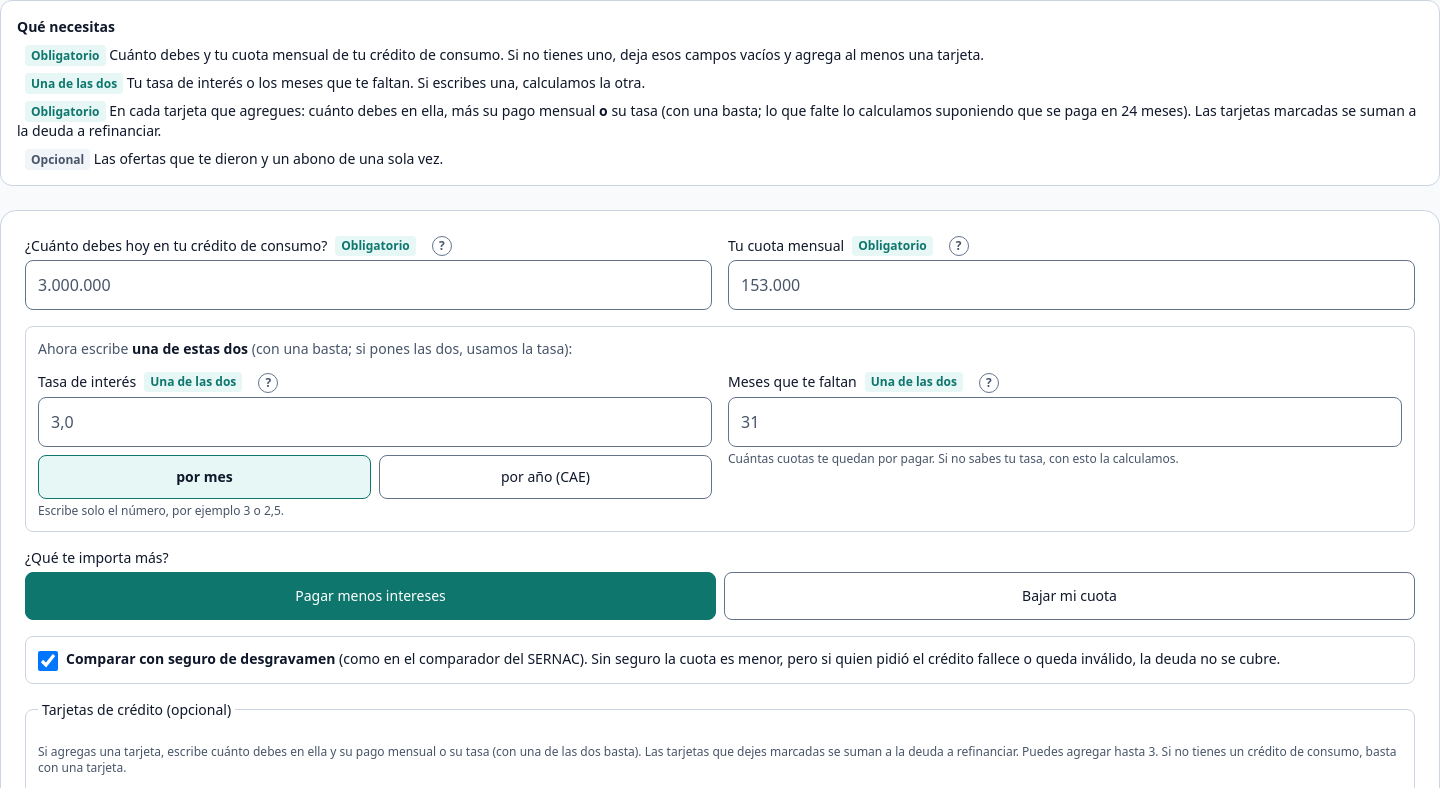
it: Ingreso de datos › permite dar la tasa por año y muestra su equivalente mensual
Click the radio button labelled "por año (CAE)" at (546, 476), box top-left (379, 454), bottom-right (712, 498)
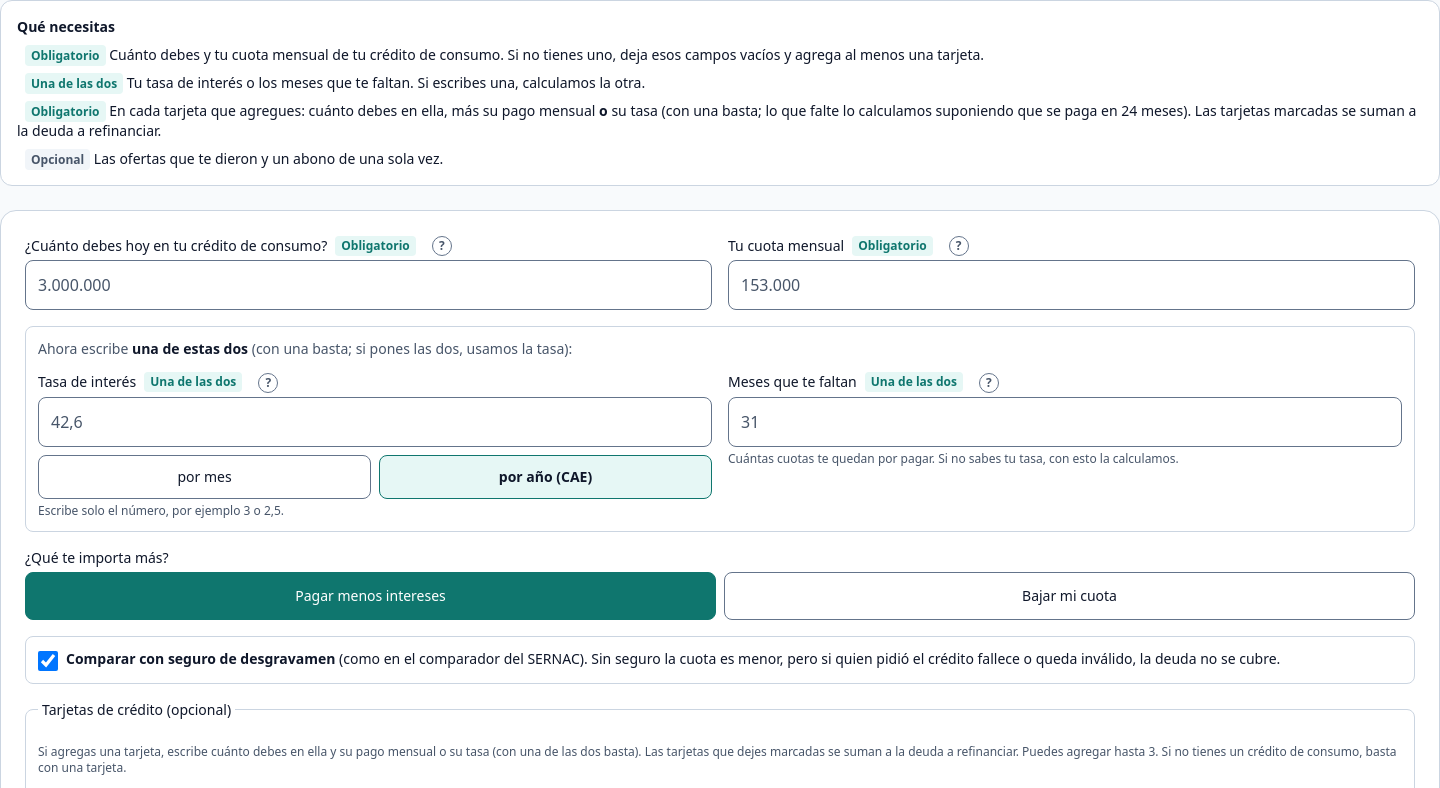
Type "26,8242" into the field labelled "Tasa de interés" at (375, 422), box top-left (38, 396), bottom-right (712, 446)
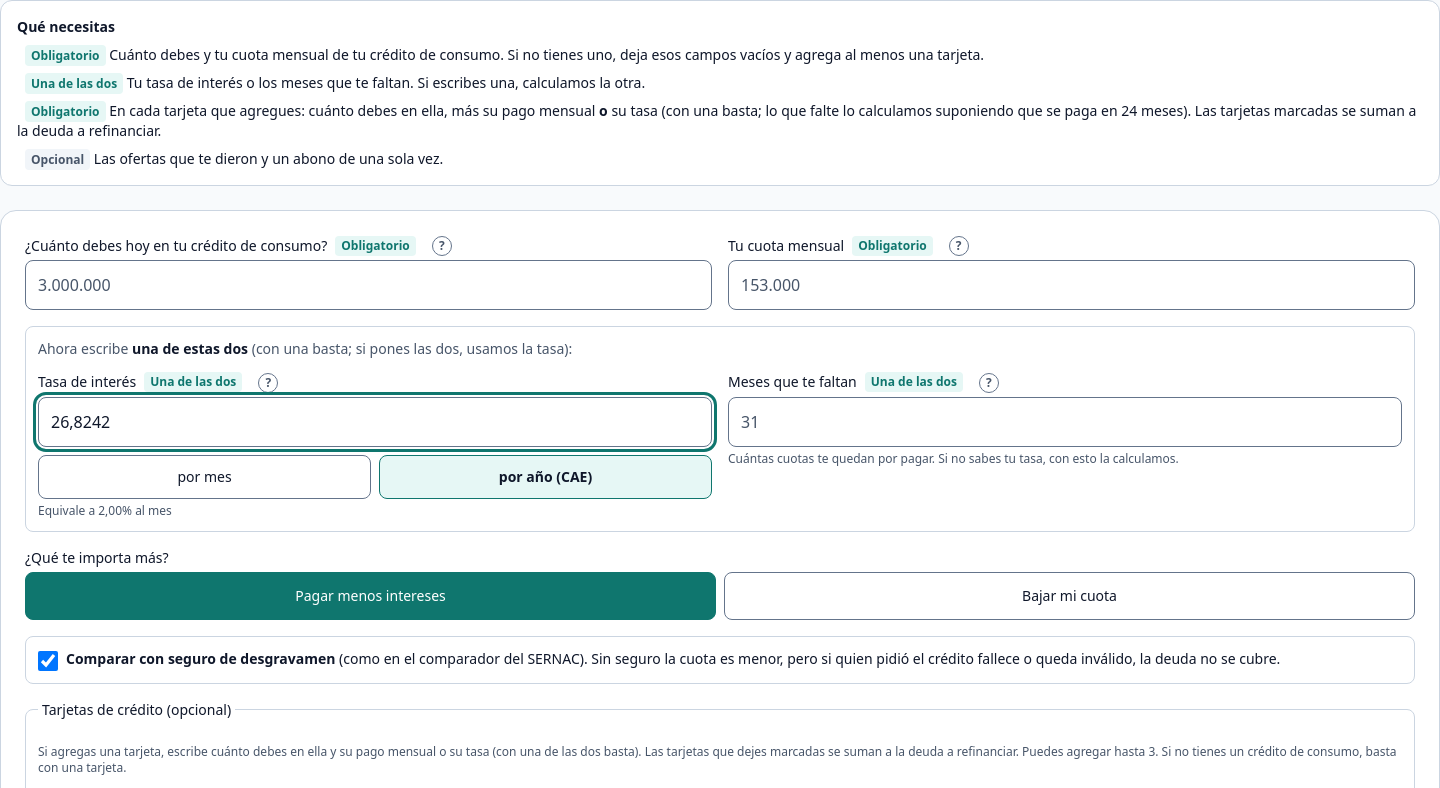
Expected: the text "Equivale a 2,00% al mes" is shown, top-left (38, 502), bottom-right (172, 518)
